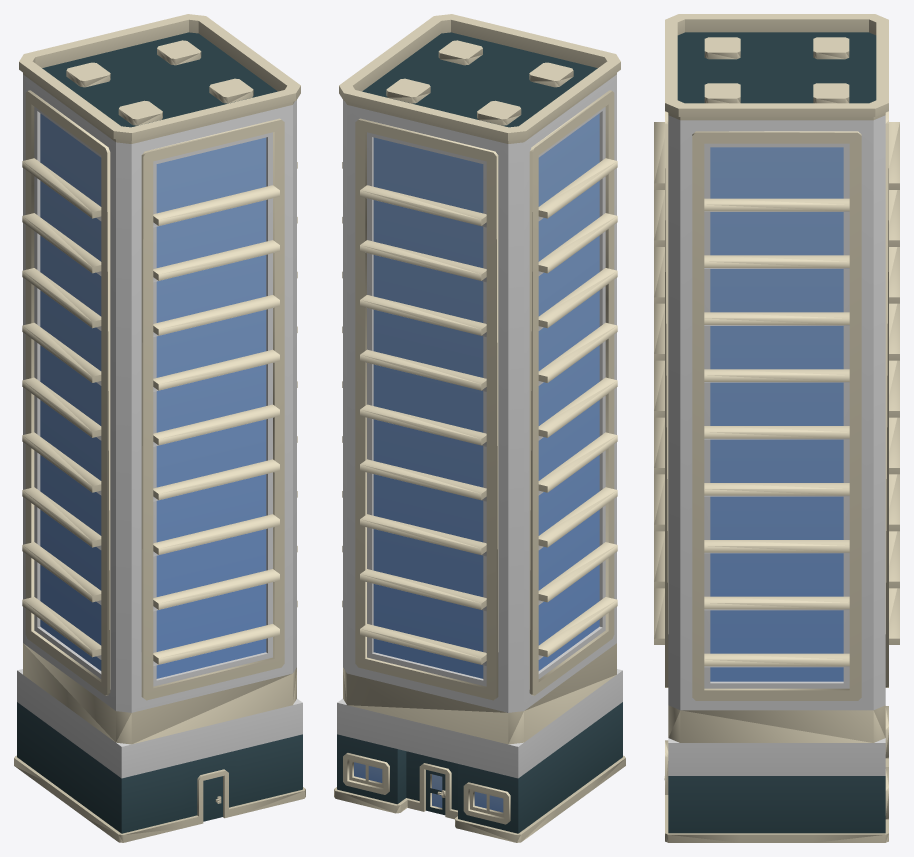
The model's file is building-skyscraper-b.glb.
3 renders of one model, left to right at view 1: azimuth 30°, elevation 25°; view 2: azimuth 150°, elevation 25°; view 3: azimuth 270°, elevation 25°, orthographic. The views are drawn at different scales.
Parts seen in each view (by area): view 1: building-skyscraper-b; view 2: building-skyscraper-b; view 3: building-skyscraper-b.
Boxes of the visible parts, left/top/right/bottom form: building-skyscraper-b: left=14, top=14, right=305, bottom=842; building-skyscraper-b: left=334, top=14, right=625, bottom=842; building-skyscraper-b: left=654, top=14, right=899, bottom=842.
Size of the model in its own units: 13.6 by 44.8 by 13.6.
